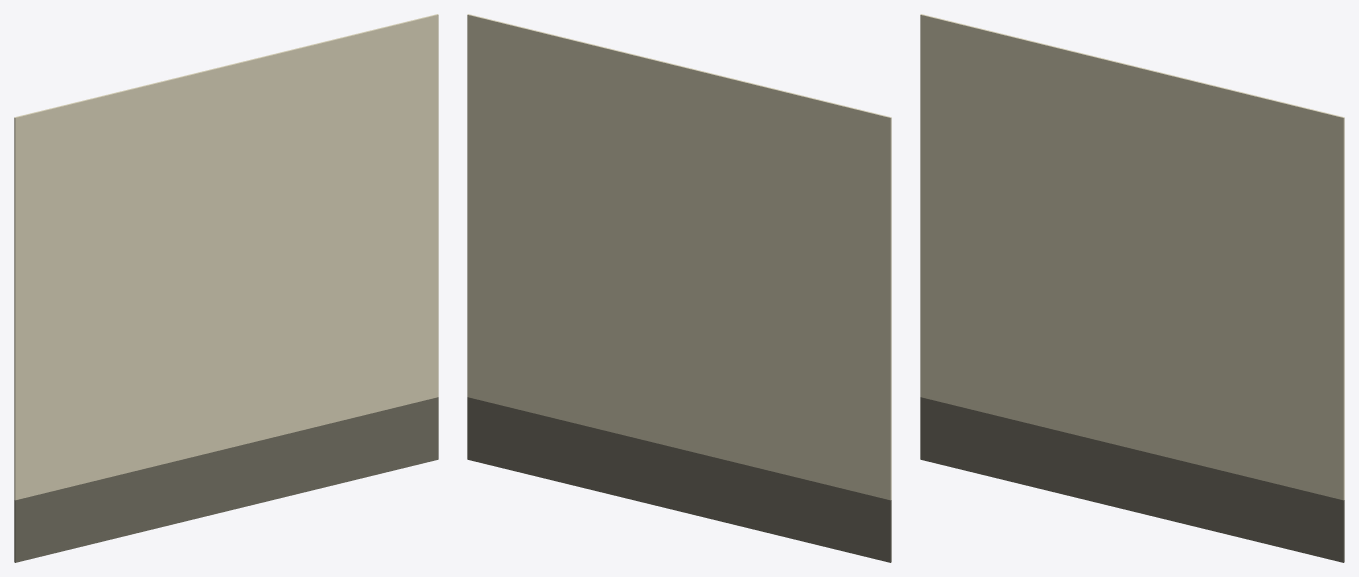
Rendered from factory4.5-19.obj.
3 renders of one model, left to right at view 1: azimuth 30°, elevation 25°; view 2: azimuth 150°, elevation 25°; view 3: azimuth 330°, elevation 25°, orthographic.
Size of the model in its own units: 25.5 by 25.6 by 0.1.
1 material, 1 textured.
